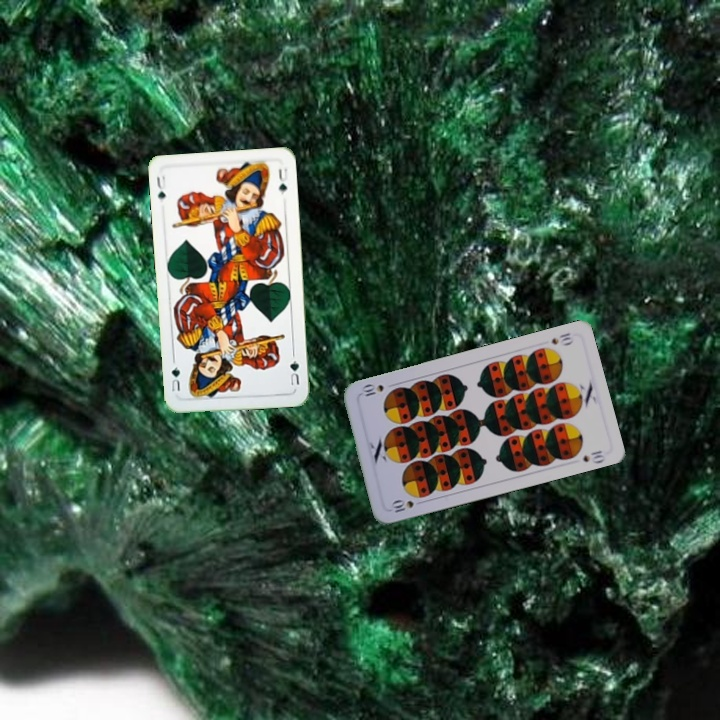GU: (286, 350, 302, 388), (153, 171, 169, 202)
S10: (387, 491, 427, 515), (547, 329, 576, 348)
